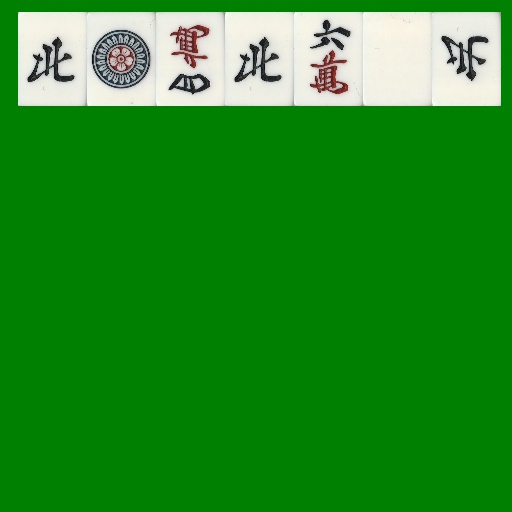1p: (87, 12, 156, 106)
4m: (156, 12, 225, 106)
6m: (294, 12, 363, 106)
north: (18, 12, 87, 106), (225, 12, 294, 106), (432, 12, 501, 106)
white: (363, 12, 432, 106)
